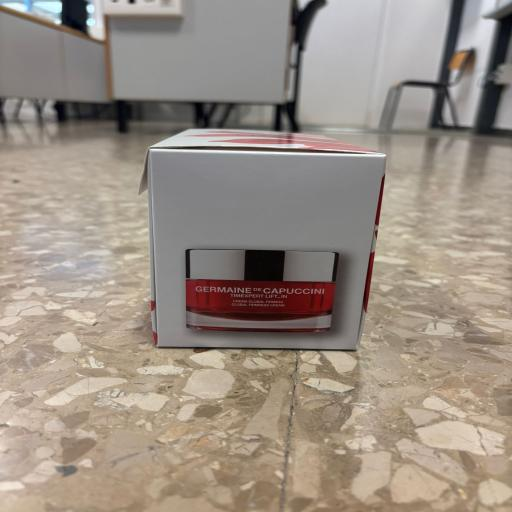caja_2: (139, 128, 386, 350)
